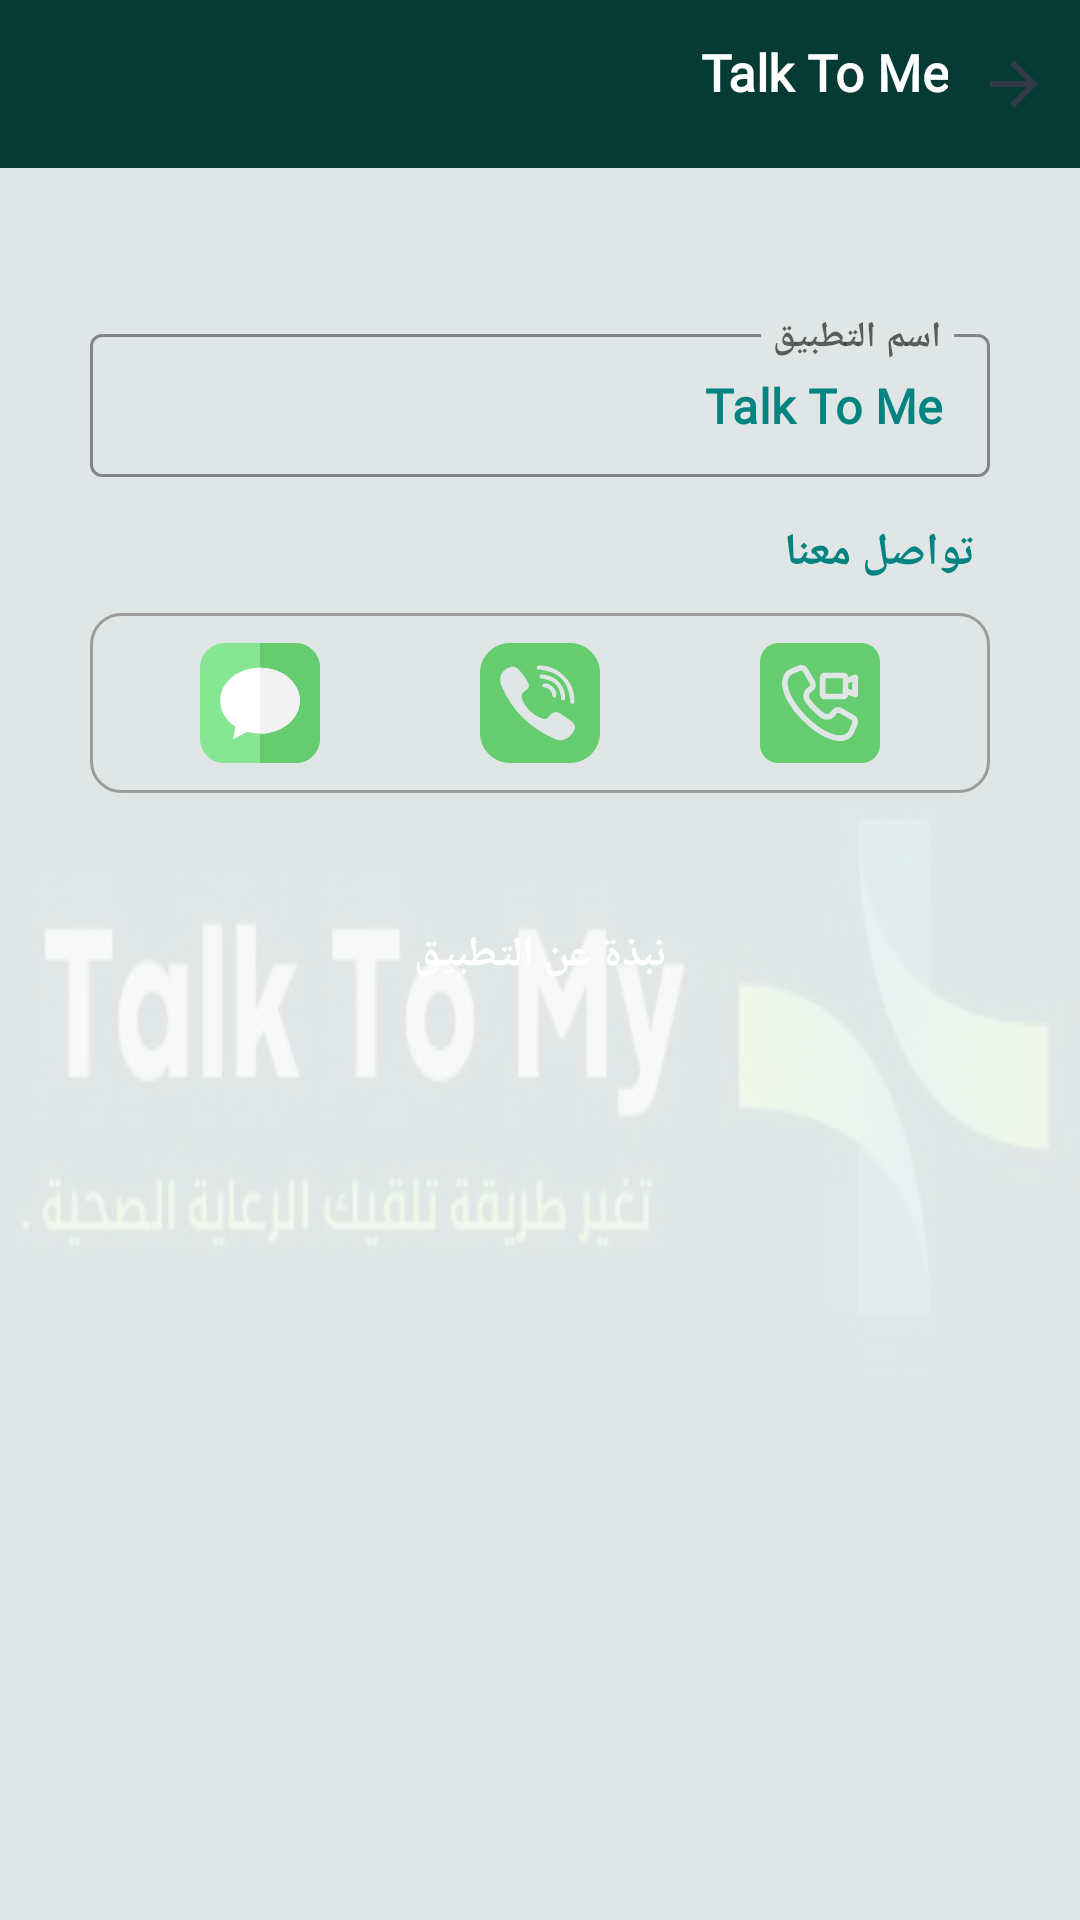

Named icons in this screenshot (1080 × 1920) and their bounding boxes, (x1, y1, x2, y2):
call: (480, 643, 600, 763)
video call: (760, 643, 880, 763)
